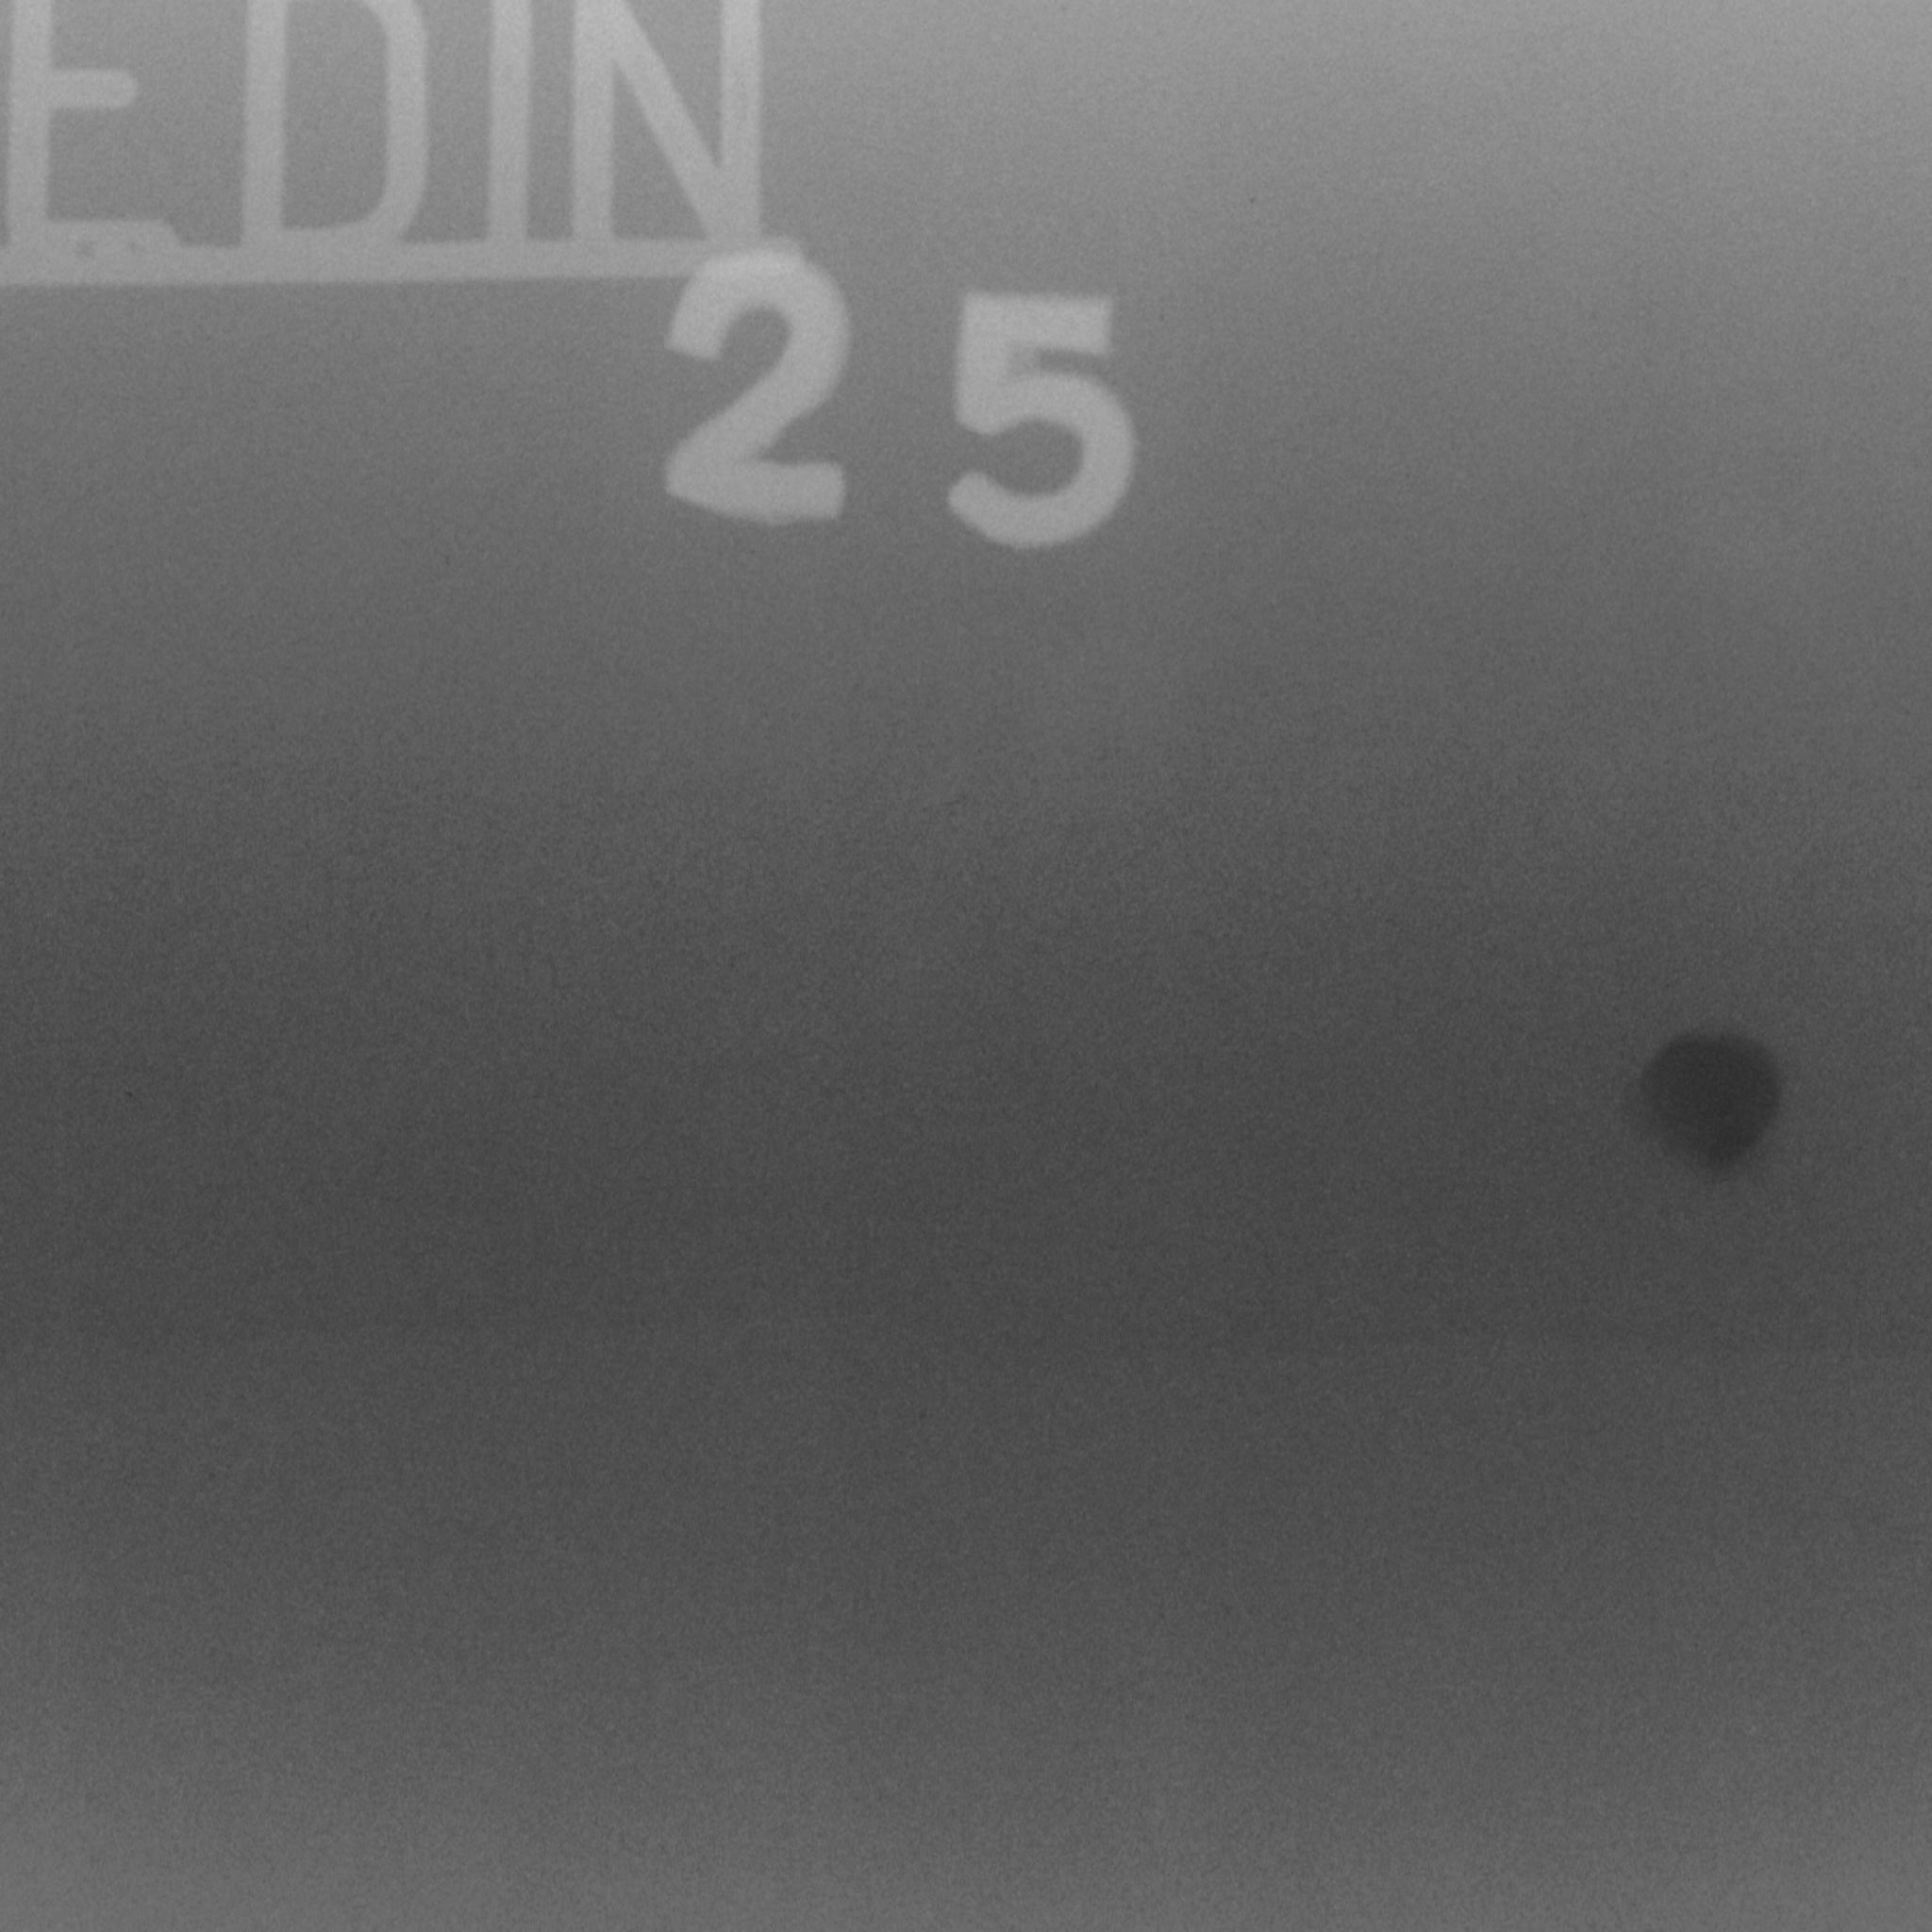PO: (1584, 958, 1852, 1275)
